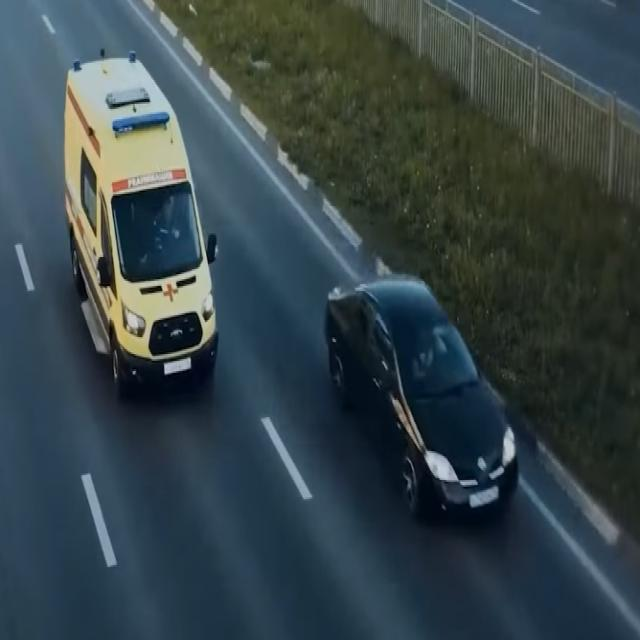intensive care unit: (64, 48, 220, 399)
non emergency car: (326, 271, 519, 526)
